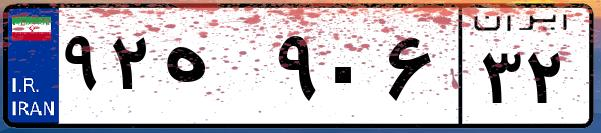0: (330, 28, 385, 110)
2: (525, 38, 570, 115), (110, 28, 158, 98)
3: (475, 38, 525, 113)
6: (385, 28, 445, 110)
9: (270, 28, 330, 110), (57, 26, 110, 100)
ه: (158, 20, 270, 120)
